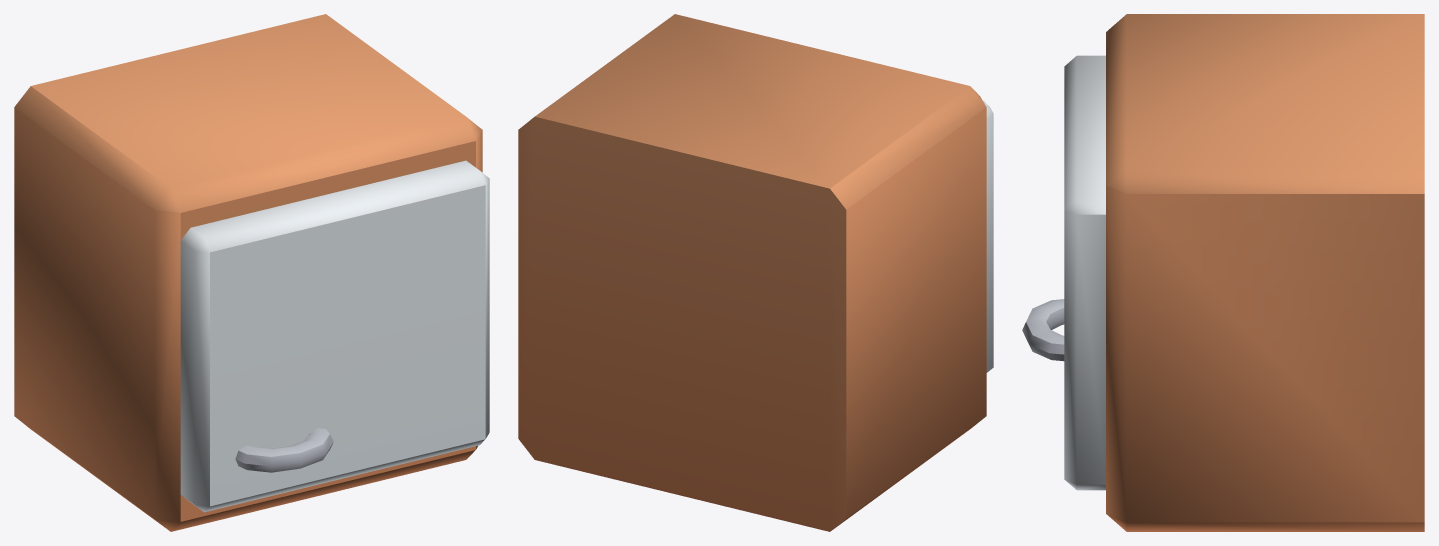
Rendered from Wall Cabinet Single.glb.
3 renders of one model, left to right at view 1: azimuth 30°, elevation 25°; view 2: azimuth 150°, elevation 25°; view 3: azimuth 270°, elevation 25°, orthographic. The views are drawn at different scales.
Parts seen in each view (by area): view 1: wall_cabinet_single_right; view 2: wall_cabinet_single_right; view 3: wall_cabinet_single_right.
Part boxes in pixels (x1=…): wall_cabinet_single_right: x1=14, y1=14, x2=489, y2=531; wall_cabinet_single_right: x1=518, y1=14, x2=993, y2=531; wall_cabinet_single_right: x1=1022, y1=14, x2=1424, y2=531.
Size of the model in its own units: 1 by 1 by 1.
Materials: 1 (1 with a texture image).
